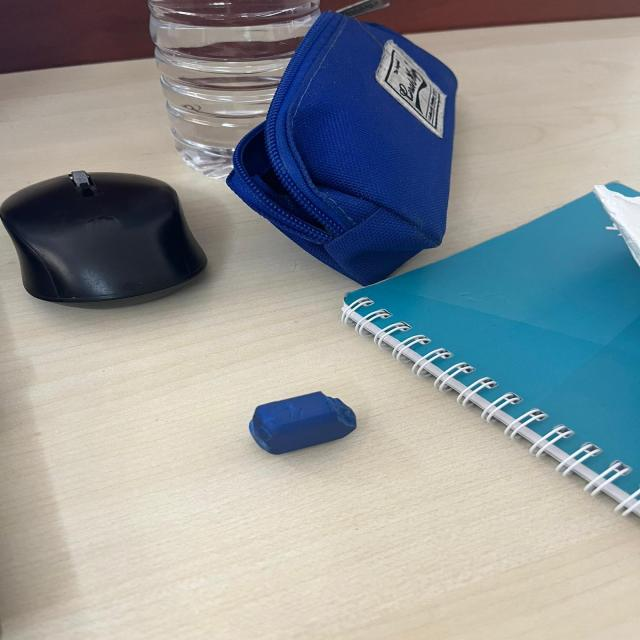eraser: (242, 390, 360, 454)
